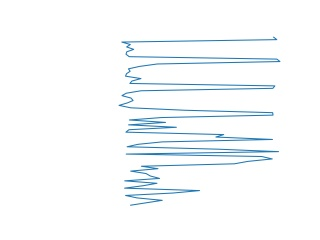crevasseRiverChannelBar: (117, 158, 277, 205)
majorRiverBedLagDeposit: (121, 120, 286, 165)
majorRiverChannelBar: (114, 35, 282, 116)
